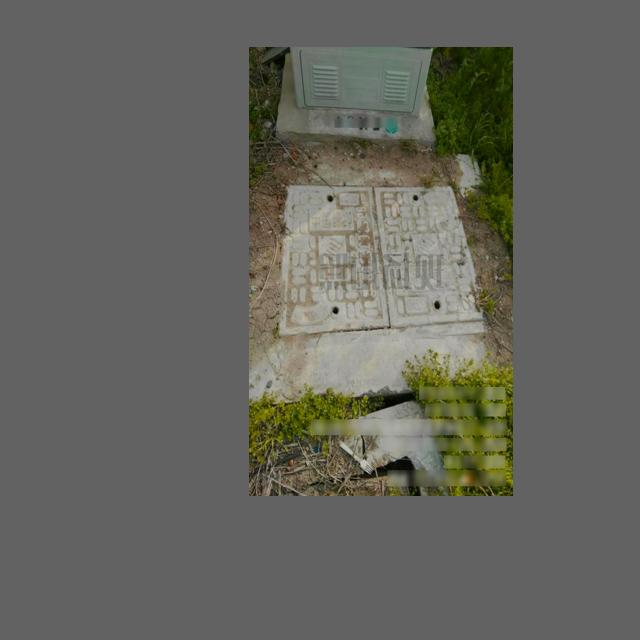good: (279, 184, 487, 340)
